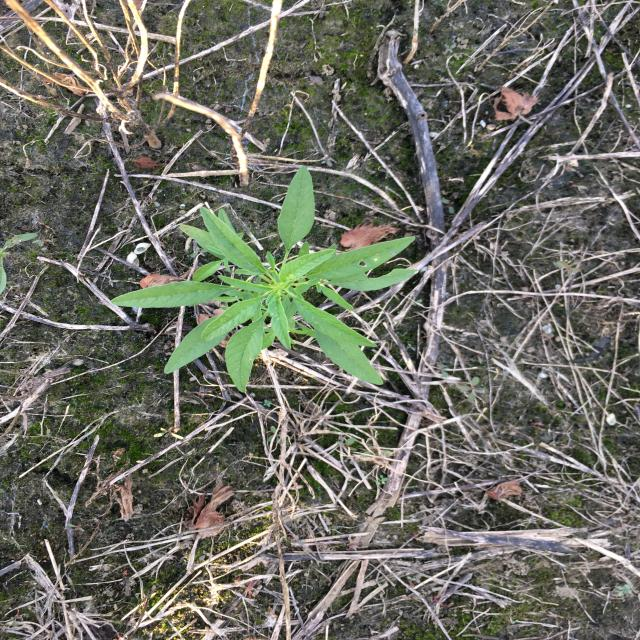Waterhemp: (107, 164, 422, 395)
